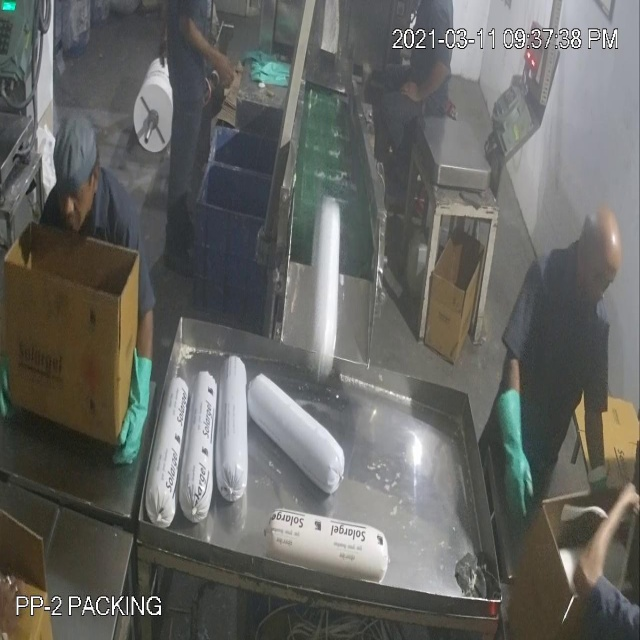Sin_guantes: (573, 465, 640, 608), (168, 5, 242, 96), (402, 59, 456, 115)
